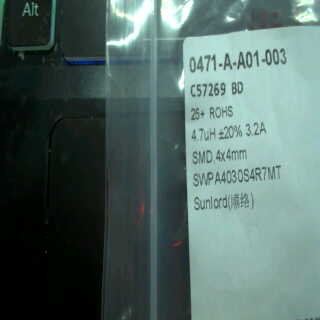4.7uH: (189, 124, 218, 147)
